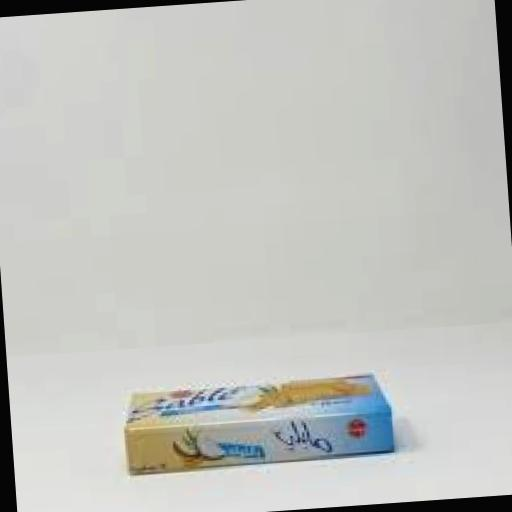sabl: (83, 322, 463, 512)
